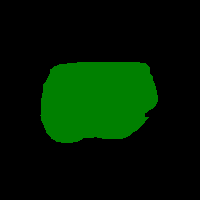mutande: (40, 61, 158, 143)
